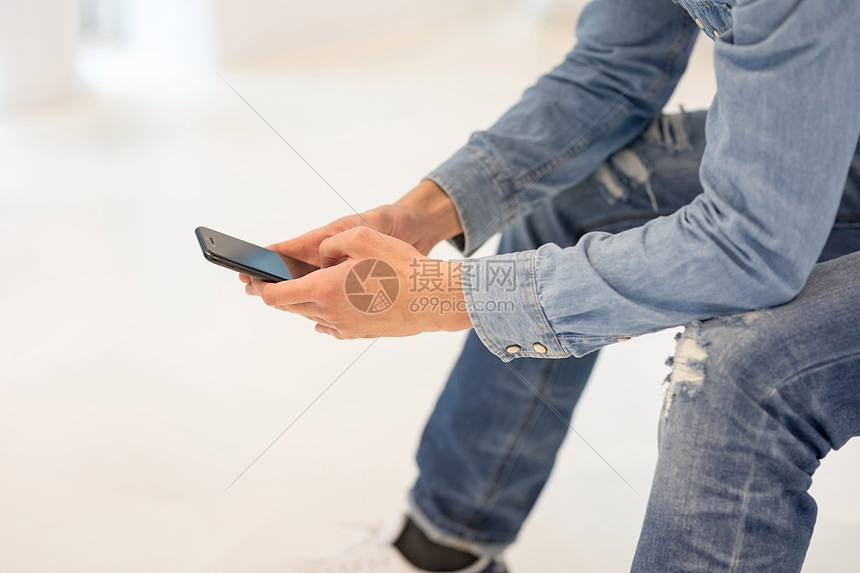reading: (192, 188, 440, 345)
